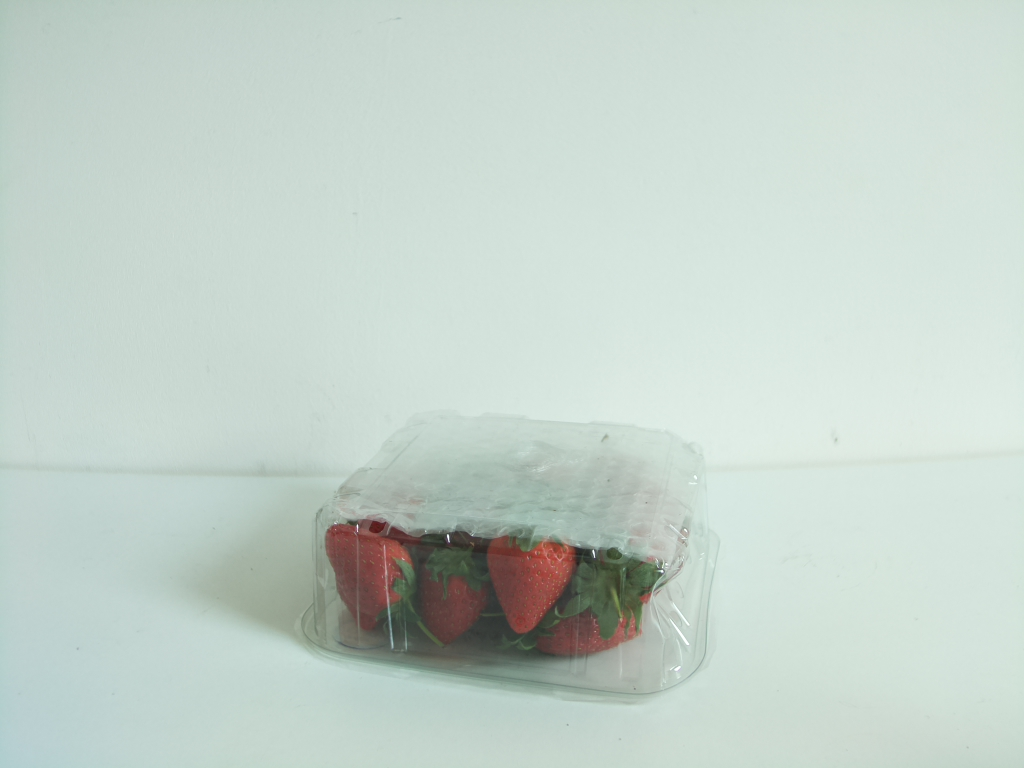soft-fruit: (280, 414, 715, 705)
